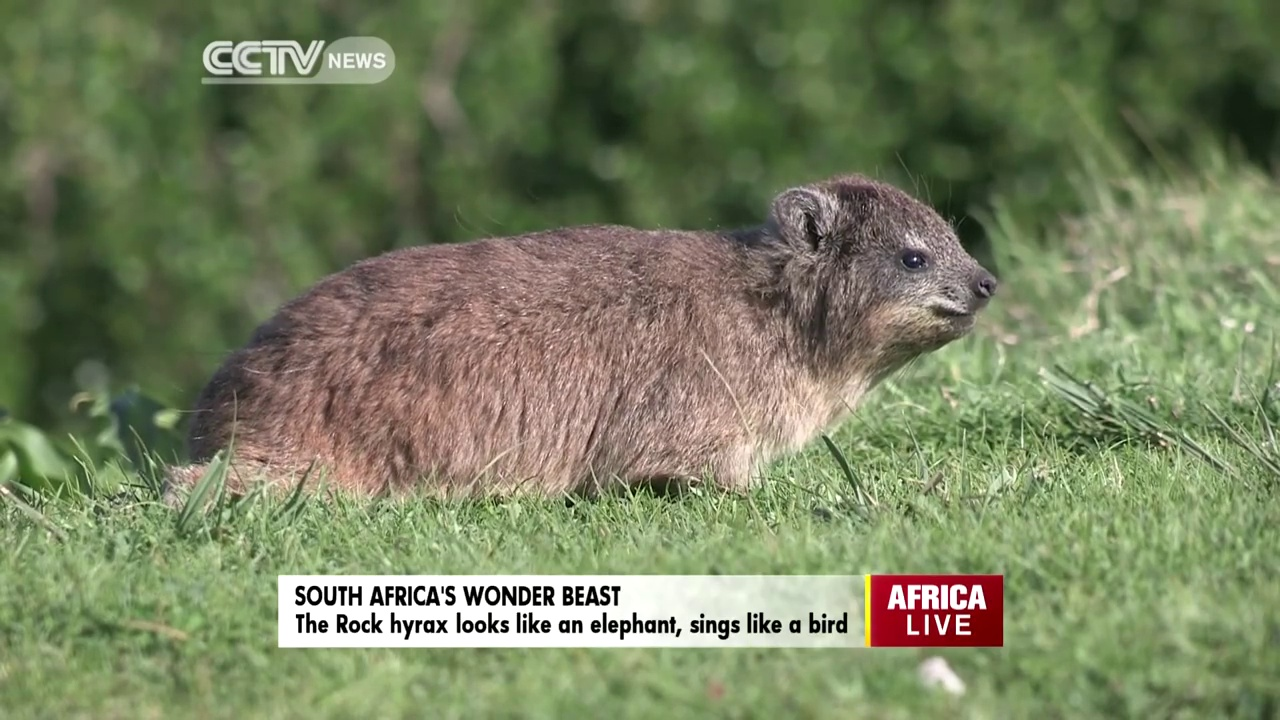Rock Hyrex: (192, 173, 995, 495)
